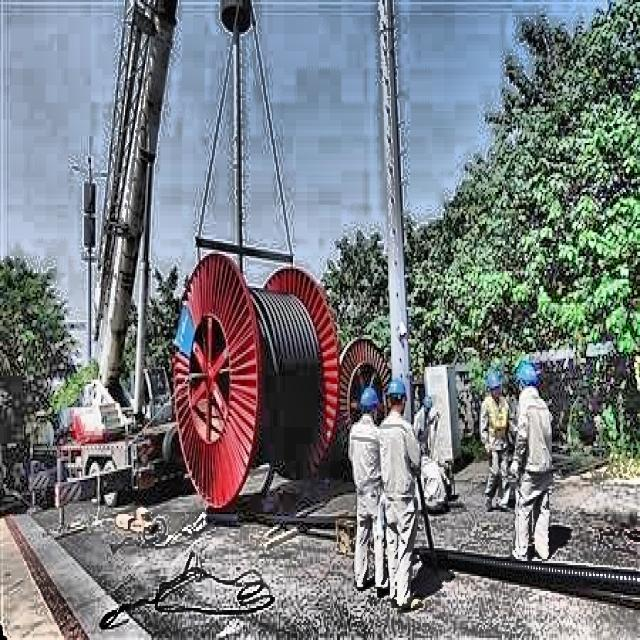helmet: (386, 376, 408, 418), (356, 386, 380, 423), (519, 360, 538, 399), (486, 374, 502, 404)
